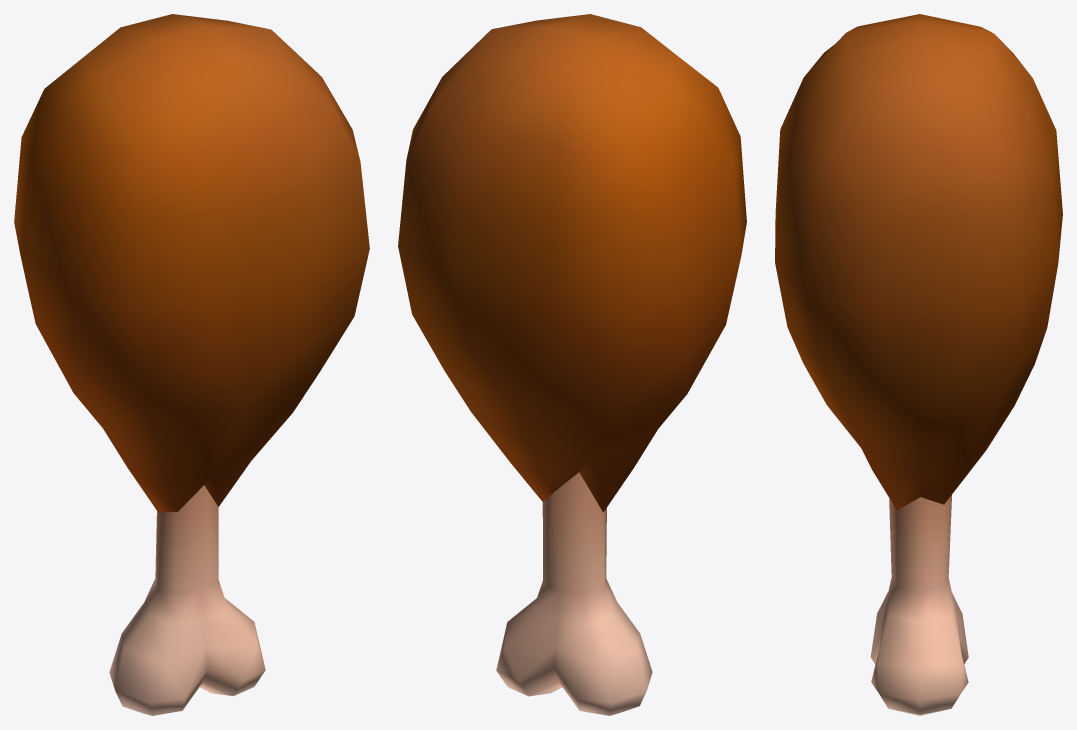
The model's file is chickenLeg.fbx.
3 renders of one model, left to right at view 1: azimuth 30°, elevation 25°; view 2: azimuth 150°, elevation 25°; view 3: azimuth 270°, elevation 25°, orthographic.
Visible parts, largest first — view 1: chickenLeg; view 2: chickenLeg; view 3: chickenLeg.
Part boxes in pixels (bbox=[...]): chickenLeg: bbox=[14, 14, 369, 715]; chickenLeg: bbox=[398, 14, 746, 715]; chickenLeg: bbox=[775, 14, 1062, 715].
Bounding box in the file's own units: 9.02 × 19.59 × 7.67.
